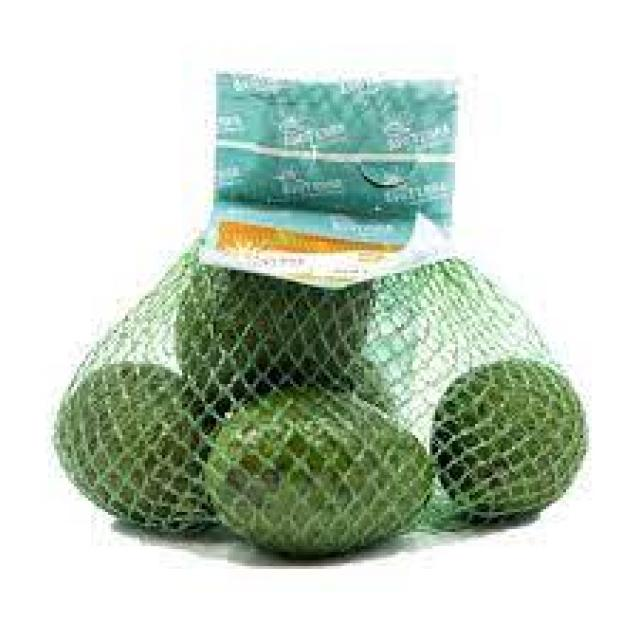avocado: (206, 388, 433, 556), (54, 361, 228, 535), (433, 362, 588, 518), (174, 274, 373, 390)
